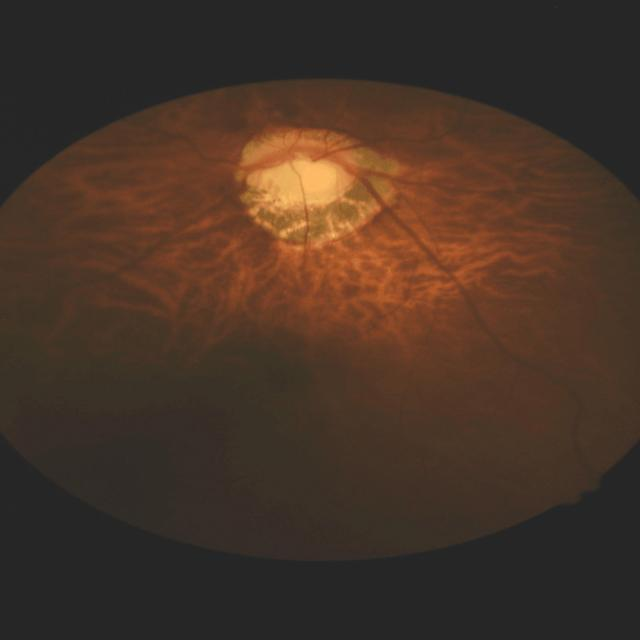cup: (248, 152, 352, 195)
disk: (237, 140, 361, 203)
